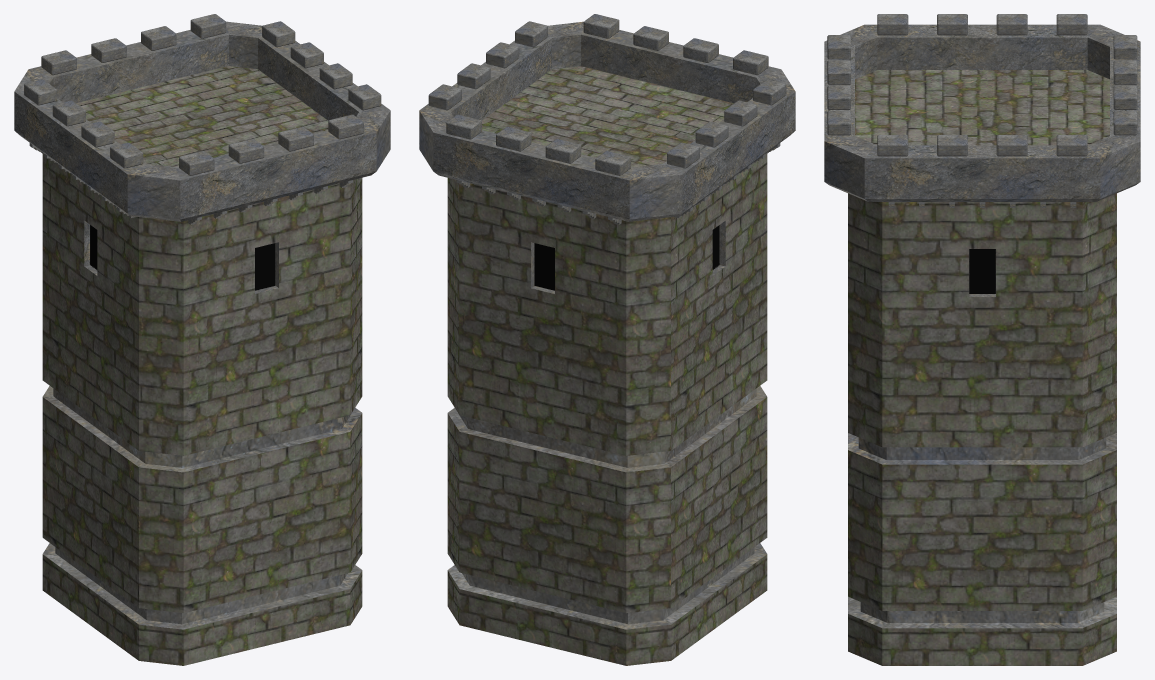
File: castle-tower.glb
3 renders of one model, left to right at view 1: azimuth 30°, elevation 25°; view 2: azimuth 150°, elevation 25°; view 3: azimuth 270°, elevation 25°, orthographic. The views are drawn at different scales.
Size of the model in its own units: 3.78 by 7 by 3.78.
Materials: 1 (1 with a texture image).
